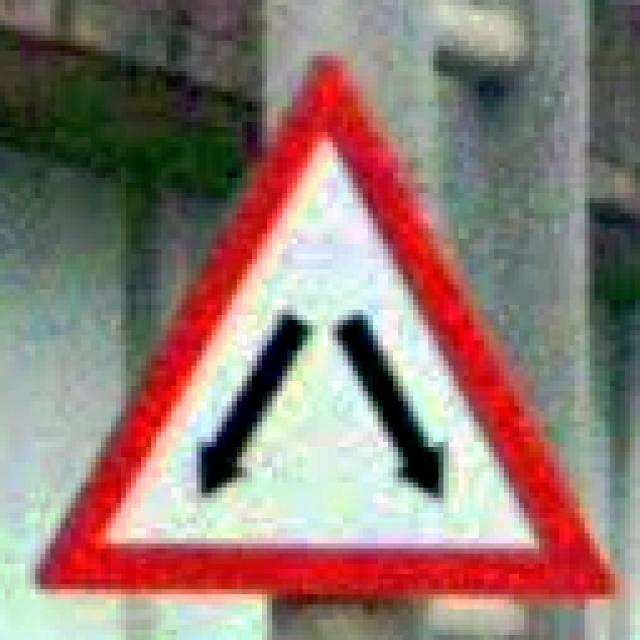diverge: (30, 51, 620, 604)
